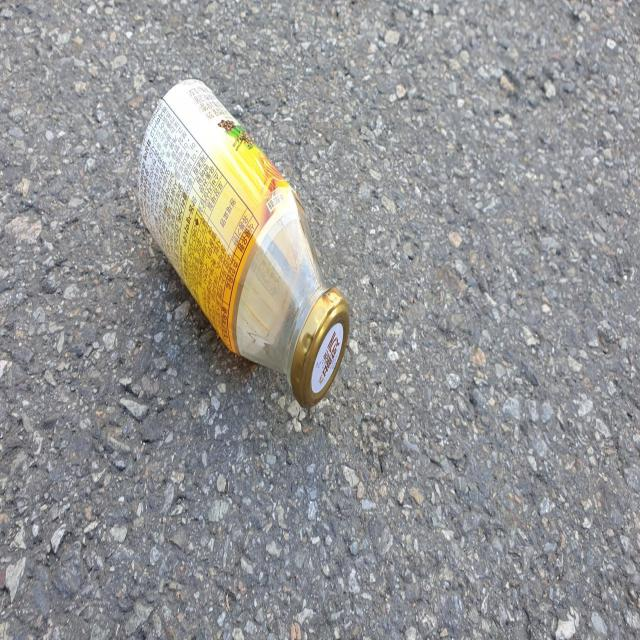glass: (138, 78, 350, 407)
